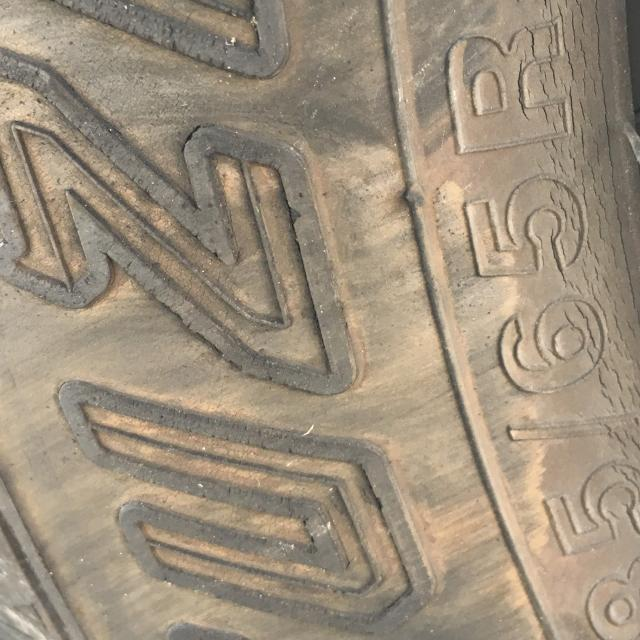Cracks: (505, 0, 639, 601)
